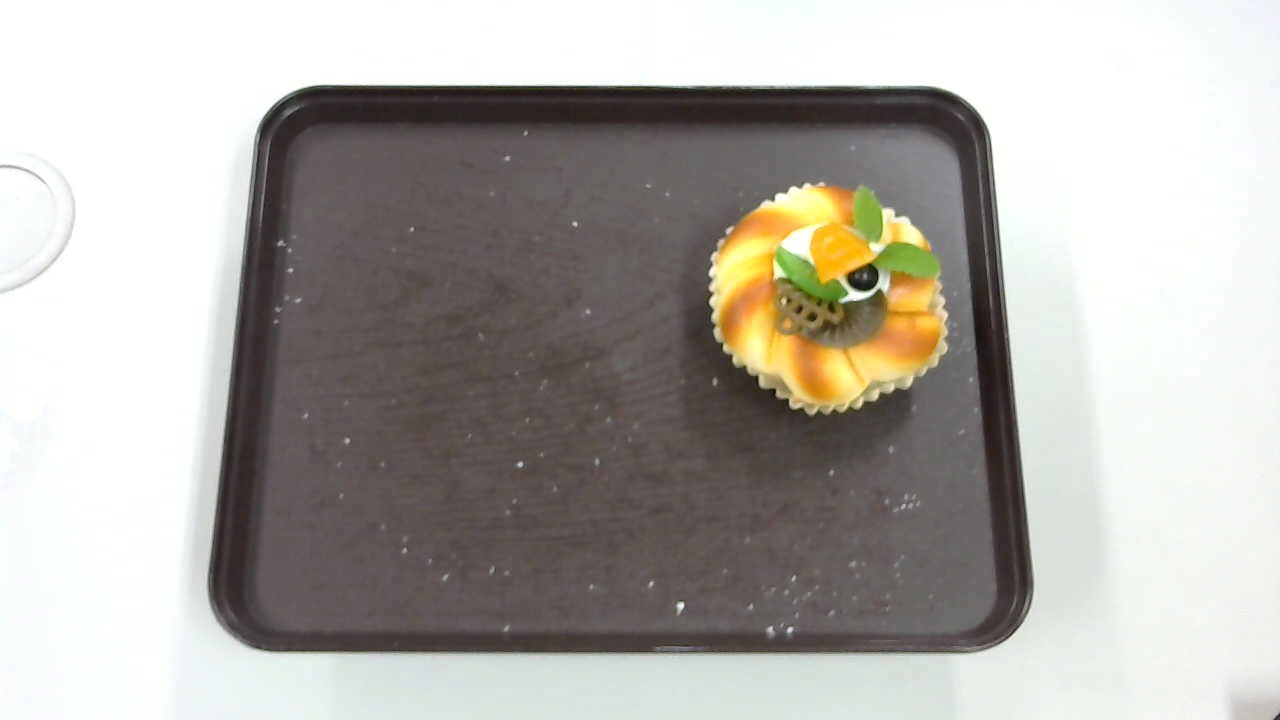fruit tart: (706, 180, 950, 417)
